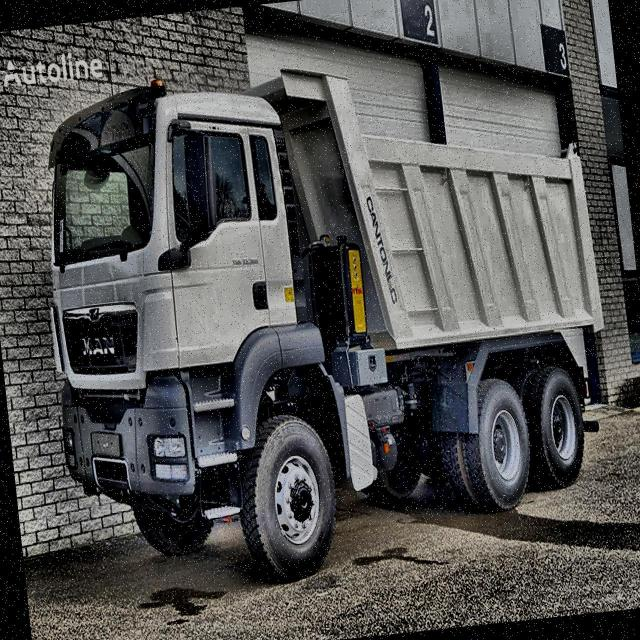dump_truck: (20, 24, 630, 602)
